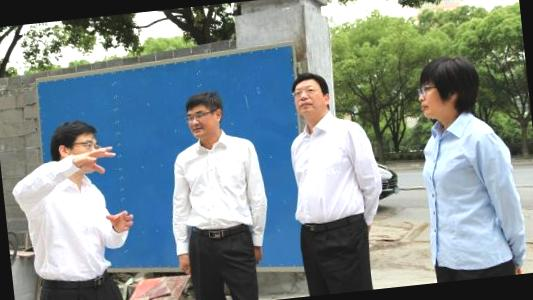no_helmet: (414, 52, 482, 130), (178, 88, 228, 146), (286, 68, 333, 126), (49, 117, 100, 164)
